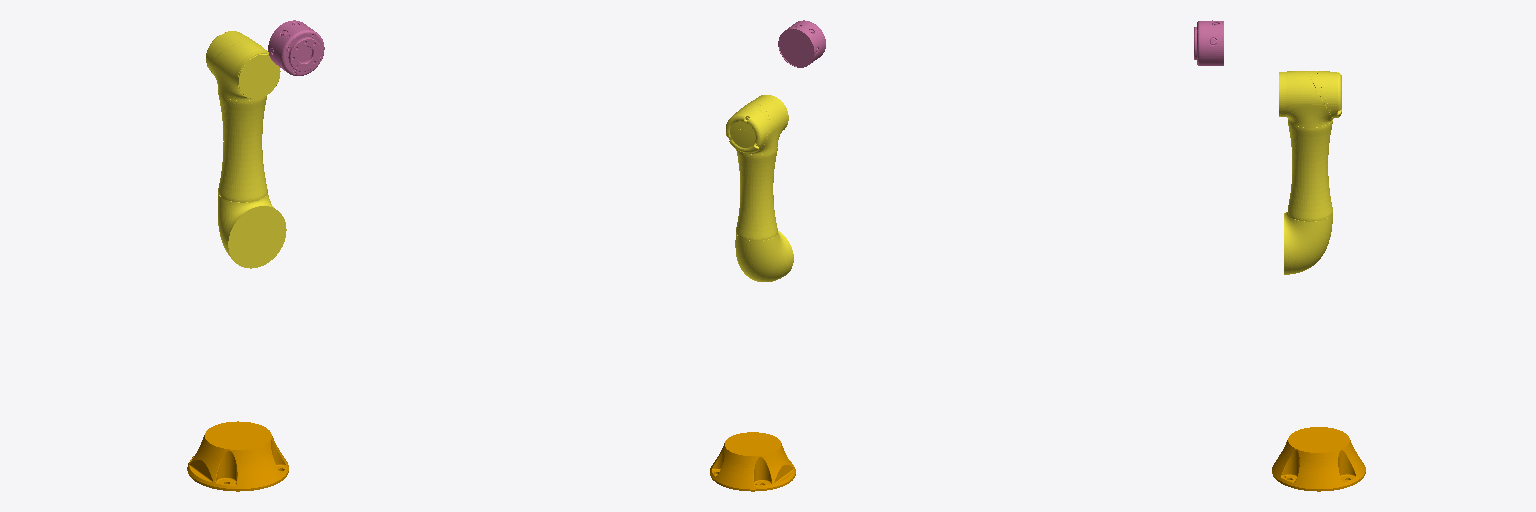
URDF robot description (tm5x-700):
<?xml version="1.0" ?>
<!-- =================================================================================== -->
<!-- |    This document was autogenerated by xacro from tm5x-700.urdf.xacro            | -->
<!-- |    EDITING THIS FILE BY HAND IS NOT RECOMMENDED                                 | -->
<!-- =================================================================================== -->
<robot name="tm5x-700">
  <gazebo reference="link_1">
    <selfCollide>true</selfCollide>
  </gazebo>
  <gazebo reference="link_2">
    <selfCollide>true</selfCollide>
  </gazebo>
  <gazebo reference="link_3">
    <selfCollide>true</selfCollide>
  </gazebo>
  <gazebo reference="link_4">
    <selfCollide>true</selfCollide>
  </gazebo>
  <gazebo reference="link_5">
    <selfCollide>true</selfCollide>
  </gazebo>
  <gazebo reference="link_6">
    <selfCollide>true</selfCollide>
  </gazebo>
  <gazebo>
    <plugin filename="libgazebo_ros_control.so" name="gazebo_ros_control">
      <robotNamespace>/</robotNamespace>
      <robotSimType>gazebo_ros_control/DefaultRobotHWSim</robotSimType>
    </plugin>
  </gazebo>
  <transmission name="trans_1">
    <type>transmission_interface/SimpleTransmission</type>
    <joint name="joint_1">
      <hardwareInterface>hardware_interface/PositionJointInterface</hardwareInterface>
    </joint>
    <actuator name="motor_1">
      <mechanicalReduction>1</mechanicalReduction>
    </actuator>
  </transmission>
  <transmission name="trans_2">
    <type>transmission_interface/SimpleTransmission</type>
    <joint name="joint_2">
      <hardwareInterface>hardware_interface/PositionJointInterface</hardwareInterface>
    </joint>
    <actuator name="motor_2">
      <mechanicalReduction>1</mechanicalReduction>
    </actuator>
  </transmission>
  <transmission name="trans_3">
    <type>transmission_interface/SimpleTransmission</type>
    <joint name="joint_3">
      <hardwareInterface>hardware_interface/PositionJointInterface</hardwareInterface>
    </joint>
    <actuator name="motor_3">
      <mechanicalReduction>1</mechanicalReduction>
    </actuator>
  </transmission>
  <transmission name="trans_4">
    <type>transmission_interface/SimpleTransmission</type>
    <joint name="joint_4">
      <hardwareInterface>hardware_interface/PositionJointInterface</hardwareInterface>
    </joint>
    <actuator name="motor_4">
      <mechanicalReduction>1</mechanicalReduction>
    </actuator>
  </transmission>
  <transmission name="trans_5">
    <type>transmission_interface/SimpleTransmission</type>
    <joint name="joint_5">
      <hardwareInterface>hardware_interface/PositionJointInterface</hardwareInterface>
    </joint>
    <actuator name="motor_5">
      <mechanicalReduction>1</mechanicalReduction>
    </actuator>
  </transmission>
  <transmission name="trans_6">
    <type>transmission_interface/SimpleTransmission</type>
    <joint name="joint_6">
      <hardwareInterface>hardware_interface/PositionJointInterface</hardwareInterface>
    </joint>
    <actuator name="motor_6">
      <mechanicalReduction>1</mechanicalReduction>
    </actuator>
  </transmission>
  <material name="lightgrey">
    <color rgba="0.5 0.5 0.5 1.0"/>
  </material>
  <material name="grey">
    <color rgba="0.75 0.75 0.75 1.0"/>
  </material>
  <material name="white">
    <color rgba="0.95 0.95 0.95 1.0"/>
  </material>
  <material name="red">
    <color rgba="0.95 0.0 0.0 1.0"/>
  </material>
  <material name="orange">
    <color rgba="1.0 0.5 0.0 1.0"/>
  </material>
  <material name="yellow">
    <color rgba="1.0 1.0 0.0 1.0"/>
  </material>
  <material name="green">
    <color rgba="0.0 1.0 0.0 1.0"/>
  </material>
  <material name="blue">
    <color rgba="0.0 0.0 1.0 1.0"/>
  </material>
  <material name="indigo">
    <color rgba="0.3 0.3 0.6 1.0"/>
  </material>
  <material name="violet">
    <color rgba="0.6 0.0 1.0 1.0"/>
  </material>
  <material name="black">
    <color rgba="0.0 0.0 0.0 1.0"/>
  </material>
  <material name="darkolive">
    <color rgba="0.3 0.3 0.25 1.0"/>
  </material>
  <!--LinkDescription-->
  <link name="link_0">
    <visual>
      <geometry>
        <mesh filename="package://tm_description/meshes/tm5-900/visual/tm5-base.obj"/>
      </geometry>
      <material name="none"/>
    </visual>
    <collision>
      <geometry>
        <mesh filename="package://tm_description/meshes/tm5-900/collision/tm5-base_c.stl"/>
      </geometry>
    </collision>
    <inertial>
      <mass value="1.0"/>
      <origin rpy="0.000000 0.000000 0.000000" xyz="0.000000 0.000000 0.000000"/>
      <inertia ixx="0.00110833289" ixy="0.0" ixz="0.0" iyy="0.00110833289" iyz="0.0" izz="0.0018"/>
    </inertial>
  </link>
  <joint name="joint_1" type="revolute">
    <parent link="link_0"/>
    <child link="link_1"/>
    <origin rpy="0.000000 -0.000000 0.000000" xyz="0.000000 0.000000 0.145200"/>
    <axis xyz="0 0 1"/>
    <!--limit-->
    <limit effort="157" lower="-6.283185307179586" upper="6.283185307179586" velocity="3.141592653589793"/>
    <dynamics damping="0.0" friction="0.0"/>
  </joint>
  <link name="link_1">
    <visual>
      <geometry>
        <mesh filename="package://tm_description/meshes/tm5-900/visual/tmr_400w_01.obj"/>
      </geometry>
      <material name="none"/>
    </visual>
    <collision>
      <geometry>
        <mesh filename="package://tm_description/meshes/tm5-900/collision/tmr_400w_01_c.stl"/>
      </geometry>
    </collision>
    <inertial>
      <origin rpy="0.000000 0.000000 0.000000" xyz="0.000000 0.000000 0.000000"/>
      <mass value="4.032"/>
      <inertia ixx="0.008800119" ixy="0.000000" ixz="0.000000" iyy="0.011548982" iyz="0.000000" izz="0.011970080999999999"/>
    </inertial>
  </link>
  <joint name="joint_2" type="revolute">
    <parent link="link_1"/>
    <child link="link_2"/>
    <origin rpy="-1.570796 -1.570796 0.000000" xyz="0.000000 0.000000 0.000000"/>
    <axis xyz="0 0 1"/>
    <!--limit-->
    <limit effort="157" lower="-6.283185307179586" upper="6.283185307179586" velocity="3.141592653589793"/>
    <dynamics damping="0.0" friction="0.0"/>
  </joint>
  <link name="link_2">
    <visual>
      <geometry>
        <mesh filename="package://tm_description/meshes/tm5-700/visual/tm5-700_arm1.obj"/>
      </geometry>
      <material name="none"/>
    </visual>
    <collision>
      <geometry>
        <mesh filename="package://tm_description/meshes/tm5-700/collision/tm5-700_arm1_c.stl"/>
      </geometry>
    </collision>
    <inertial>
      <origin rpy="0.000000 0.000000 0.000000" xyz="0.000000 0.000000 0.000000"/>
      <mass value="8.567"/>
      <inertia ixx="0.023552072" ixy="0.000000" ixz="0.000000" iyy="0.19825197" iyz="0.000000" izz="0.20459254"/>
    </inertial>
  </link>
  <joint name="joint_3" type="revolute">
    <parent link="link_2"/>
    <child link="link_3"/>
    <origin rpy="0.000000 -0.000000 0.000000" xyz="0.329000 0.000000 0.000000"/>
    <axis xyz="0 0 1"/>
    <!--limit-->
    <limit effort="157" lower="-2.705260340591211" upper="2.705260340591211" velocity="3.141592653589793"/>
    <dynamics damping="0.0" friction="0.0"/>
  </joint>
  <link name="link_3">
    <visual>
      <geometry>
        <mesh filename="package://tm_description/meshes/tm5-700/visual/tm5-700_arm2.obj"/>
      </geometry>
      <material name="none"/>
    </visual>
    <collision>
      <geometry>
        <mesh filename="package://tm_description/meshes/tm5-700/collision/tm5-700_arm2_c.stl"/>
      </geometry>
    </collision>
    <inertial>
      <origin rpy="0.000000 0.000000 0.000000" xyz="0.000000 0.000000 0.000000"/>
      <mass value="2.273"/>
      <inertia ixx="0.003380181" ixy="0.000000" ixz="0.000000" iyy="0.033829144" iyz="0.000000" izz="0.034328203"/>
    </inertial>
  </link>
  <joint name="joint_4" type="revolute">
    <parent link="link_3"/>
    <child link="link_4"/>
    <origin rpy="0.000000 -0.000000 1.570796" xyz="0.311500 0.000000 -0.122300"/>
    <axis xyz="0 0 1"/>
    <!--limit-->
    <limit effort="43" lower="-6.283185307179586" upper="6.283185307179586" velocity="3.9269908169872414"/>
    <dynamics damping="0.0" friction="0.0"/>
  </joint>
  <link name="link_4">
    <visual>
      <geometry>
        <mesh filename="package://tm_description/meshes/tm5-900/visual/tmr_100w_01.obj"/>
      </geometry>
      <material name="none"/>
    </visual>
    <collision>
      <geometry>
        <mesh filename="package://tm_description/meshes/tm5-900/collision/tmr_100w_01_c.stl"/>
      </geometry>
    </collision>
    <inertial>
      <origin rpy="0.000000 0.000000 0.000000" xyz="0.000000 0.000000 0.000000"/>
      <mass value="1.576"/>
      <inertia ixx="0.002058405" ixy="0.000000" ixz="0.000000" iyy="0.0025630790000000002" iyz="0.000000" izz="0.00264321"/>
    </inertial>
  </link>
  <joint name="joint_5" type="revolute">
    <parent link="link_4"/>
    <child link="link_5"/>
    <origin rpy="1.570796 -0.000000 0.000000" xyz="0.000000 -0.106000 0.000000"/>
    <axis xyz="0 0 1"/>
    <!--limit-->
    <limit effort="43" lower="-6.283185307179586" upper="6.283185307179586" velocity="3.9269908169872414"/>
    <dynamics damping="0.0" friction="0.0"/>
  </joint>
  <link name="link_5">
    <visual>
      <geometry>
        <mesh filename="package://tm_description/meshes/tm5-900/visual/tmr_100w_02.obj"/>
      </geometry>
      <material name="none"/>
    </visual>
    <collision>
      <geometry>
        <mesh filename="package://tm_description/meshes/tm5-900/collision/tmr_100w_02_c.stl"/>
      </geometry>
    </collision>
    <inertial>
      <origin rpy="0.000000 0.000000 0.000000" xyz="0.000000 0.000000 0.000000"/>
      <mass value="1.576"/>
      <inertia ixx="0.002058405" ixy="0.000000" ixz="0.000000" iyy="0.0025630790000000002" iyz="0.000000" izz="0.00264321"/>
    </inertial>
  </link>
  <joint name="joint_6" type="revolute">
    <parent link="link_5"/>
    <child link="link_6"/>
    <origin rpy="1.570796 -0.000000 0.000000" xyz="0.000000 -0.113150 0.000000"/>
    <axis xyz="0 0 1"/>
    <!--limit-->
    <limit effort="43" lower="-6.283185307179586" upper="6.283185307179586" velocity="3.9269908169872414"/>
    <dynamics damping="0.0" friction="0.0"/>
  </joint>
  <link name="link_6">
    <visual>
      <geometry>
        <mesh filename="package://tm_description/meshes/tm5-900/visual/tmr_iox.obj"/>
      </geometry>
      <material name="none"/>
    </visual>
    <collision>
      <geometry>
        <mesh filename="package://tm_description/meshes/tm5-900/collision/tmr_iox_c.stl"/>
      </geometry>
    </collision>
    <inertial>
      <origin rpy="0.000000 0.000000 0.000000" xyz="0.000000 0.000000 0.000000"/>
      <mass value="0.31"/>
      <inertia ixx="0.000226642" ixy="0.000000" ixz="0.000000" iyy="0.000226642" iyz="0.000000" izz="0.000286595"/>
    </inertial>
  </link>
  <link name="base"/>
  <joint name="base_fixed_joint" type="fixed">
    <parent link="base"/>
    <child link="link_0"/>
    <origin rpy="0.000000 0.000000 0.000000" xyz="0.000000 0.000000 0.000000"/>
  </joint>
  <link name="flange"/>
  <joint name="flange_fixed_joint" type="fixed">
    <parent link="link_6"/>
    <child link="flange"/>
    <origin rpy="0.000000 0.000000 0.000000" xyz="0.000000 0.000000 0.000000"/>
  </joint>
  <!--LinkDescription-->
</robot>

--- Render facts (derived) ---
The picture shows the robot from 3 angles, left to right: view 1: azimuth 30°, elevation 25°; view 2: azimuth 150°, elevation 25°; view 3: azimuth 270°, elevation 25°; orthographic projection.
Model tm5x-700 with 9 links and 8 joints (6 revolute, 2 fixed), rooted at base, posed all joints at 0.
Links seen in each view (by area): view 1: link_3, link_0, link_6; view 2: link_3, link_0, link_6; view 3: link_3, link_0, link_6.
Boxes of the visible links, bbox=[...] form: link_3: bbox=[206, 31, 286, 268]; link_0: bbox=[187, 421, 288, 491]; link_6: bbox=[268, 20, 324, 75]; link_3: bbox=[726, 95, 793, 281]; link_0: bbox=[710, 432, 795, 491]; link_6: bbox=[778, 20, 825, 67]; link_3: bbox=[1279, 71, 1341, 274]; link_0: bbox=[1272, 427, 1365, 491]; link_6: bbox=[1194, 20, 1223, 65].
Bounding box of the posed robot: 0.177 × 0.324 × 0.9353 m (x, y, z).
Meshes: 7 distinct files referenced, 3 mesh visuals loaded (3 OBJ); not drawn: 4 (reference not matched to a file when rendering).